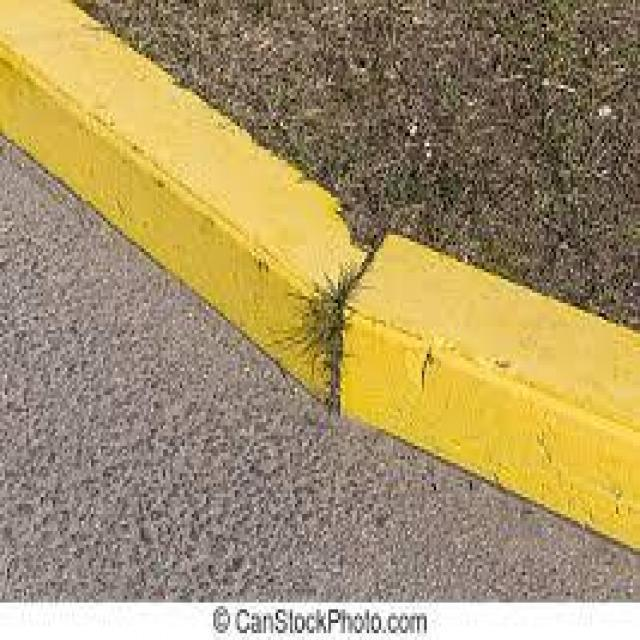curb: (7, 6, 369, 405), (337, 230, 638, 555)
